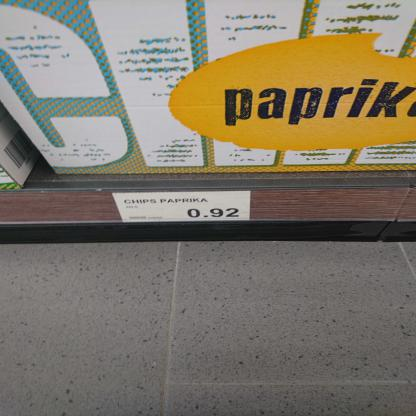prtg: (112, 191, 252, 224)
